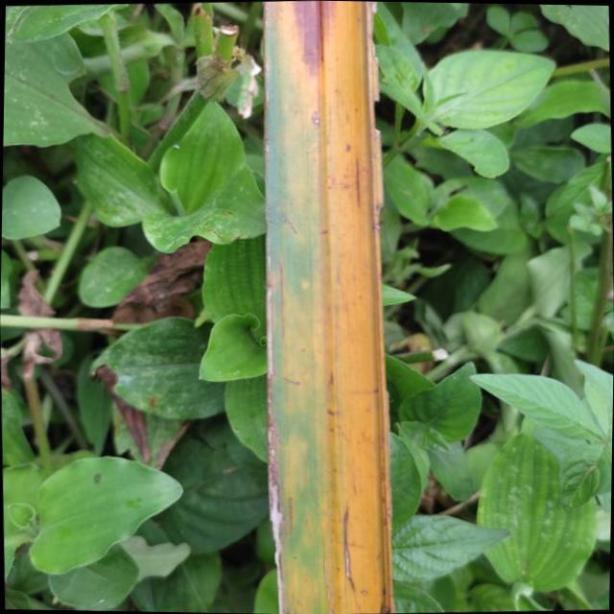Megnesium: (266, 0, 394, 614)
